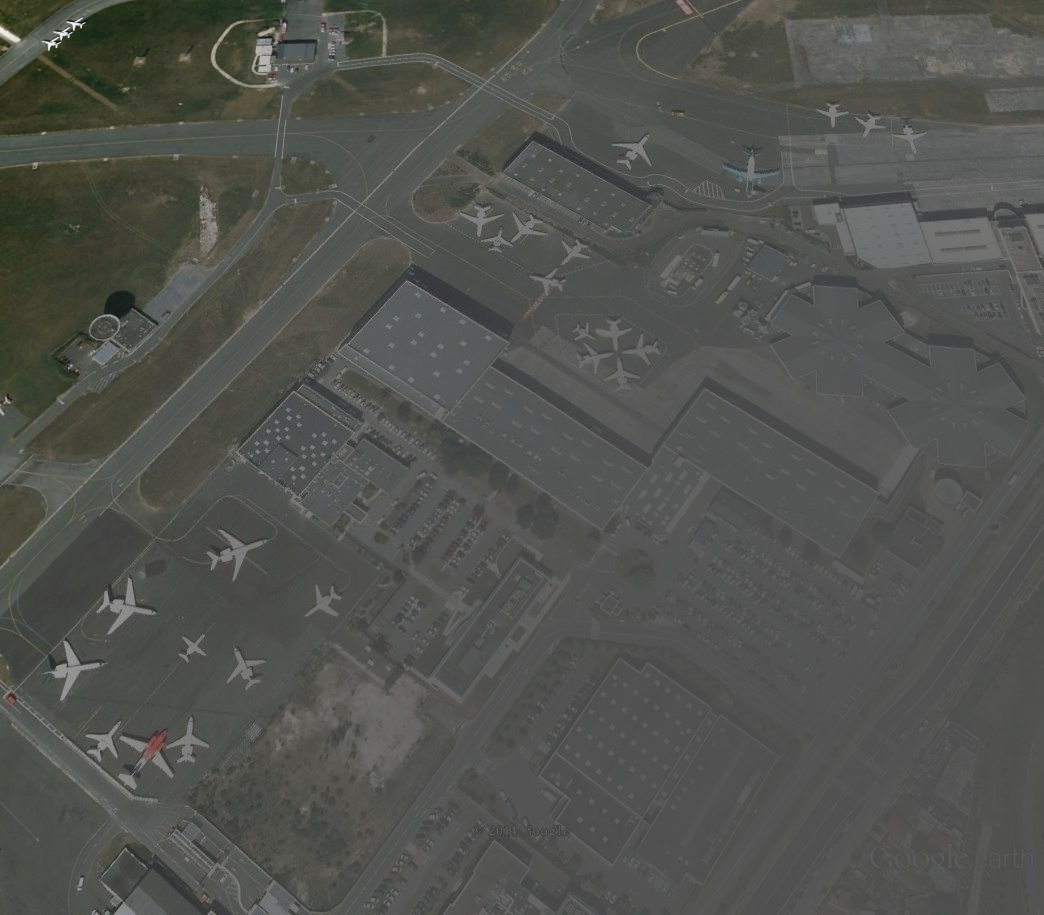aircraft: (114, 723, 181, 793), (97, 570, 162, 640), (45, 637, 109, 708), (718, 141, 784, 201), (720, 144, 787, 202), (205, 526, 270, 585), (163, 711, 213, 768), (223, 645, 271, 696), (78, 718, 124, 766), (600, 352, 646, 397), (610, 132, 655, 175), (301, 583, 348, 624), (456, 199, 505, 238), (607, 132, 651, 175), (571, 340, 618, 379), (618, 331, 666, 369), (507, 210, 552, 250), (594, 316, 637, 355), (525, 265, 568, 301), (889, 121, 931, 157), (174, 631, 213, 666), (478, 223, 517, 256), (558, 237, 597, 270), (852, 111, 891, 141), (814, 100, 852, 130), (570, 321, 601, 345), (37, 36, 67, 54), (63, 16, 90, 34), (51, 27, 79, 42)
